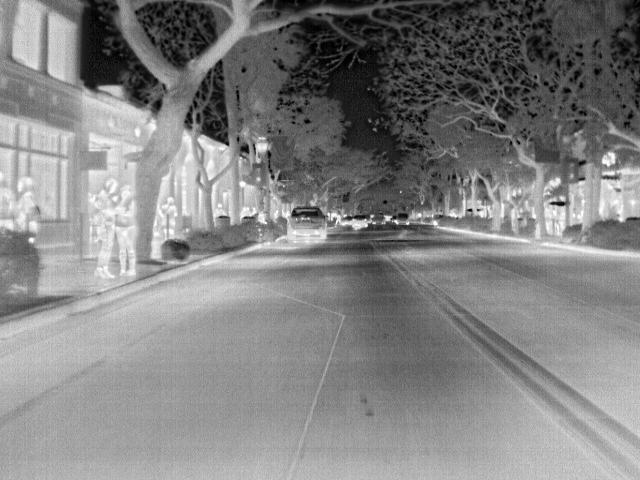car: (284, 205, 332, 242), (394, 210, 411, 228), (352, 213, 370, 230), (370, 212, 388, 227)
person: (91, 178, 119, 280), (114, 184, 141, 276), (12, 175, 40, 242), (161, 192, 181, 239)
